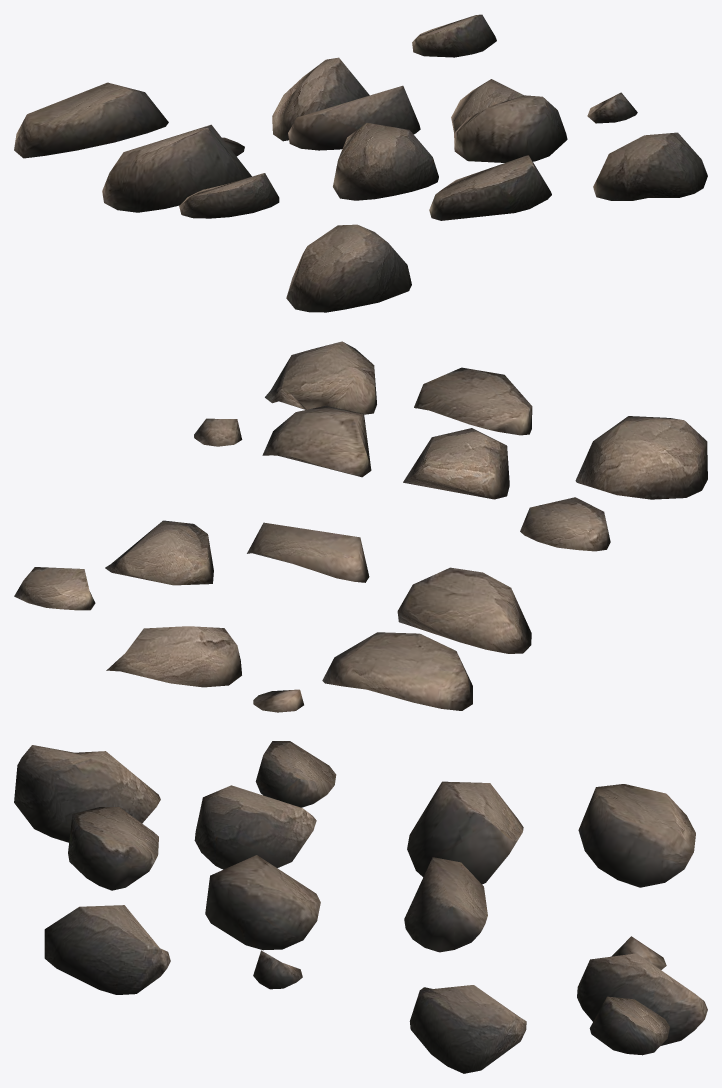
The model's file is Rocks.glb.
3 renders of one model, top to bottom at view 1: azimuth 30°, elevation 25°; view 2: azimuth 150°, elevation 25°; view 3: azimuth 270°, elevation 25°, orthographic. The views are drawn at different scales.
Visible parts, largest first — view 1: Rocks_1, Rocks_4, Rocks_0, Rocks_9, Rocks_6, Rocks_7, Rocks_3, Rocks_2, Rocks_5, Rocks_10, Rocks_11, Rocks_8 (+1 smaller); view 2: Rocks_4, Rocks_0, Rocks_1, Rocks_5, Rocks_6, Rocks_9, Rocks_3, Rocks_7, Rocks_8, Rocks_2, Rocks_10, Rocks_11 (+2 smaller); view 3: Rocks_0, Rocks_4, Rocks_6, Rocks_1, Rocks_7, Rocks_9, Rocks_8, Rocks_5, Rocks_3, Rocks_2, Rocks_10, Rocks_11 (+2 smaller).
Part boxes in pixels (left/top/right/bottom): Rocks_1: left=102, top=124, right=251, bottom=212; Rocks_4: left=286, top=224, right=411, bottom=312; Rocks_0: left=14, top=82, right=168, bottom=158; Rocks_9: left=333, top=123, right=438, bottom=200; Rocks_6: left=593, top=132, right=707, bottom=200; Rocks_7: left=454, top=95, right=567, bottom=162; Rocks_3: left=429, top=155, right=551, bottom=220; Rocks_2: left=288, top=85, right=420, bottom=150; Rocks_5: left=272, top=57, right=369, bottom=141; Rocks_10: left=179, top=173, right=279, bottom=218; Rocks_11: left=412, top=14, right=496, bottom=57; Rocks_8: left=451, top=79, right=524, bottom=132; Rocks_4: left=575, top=416, right=707, bottom=499; Rocks_0: left=322, top=632, right=472, bottom=710; Rocks_1: left=397, top=567, right=531, bottom=653; Rocks_5: left=106, top=626, right=241, bottom=687; Rocks_6: left=265, top=341, right=376, bottom=414; Rocks_9: left=403, top=428, right=509, bottom=499; Rocks_3: left=414, top=367, right=532, bottom=435; Rocks_7: left=262, top=406, right=371, bottom=477; Rocks_8: left=105, top=520, right=213, bottom=585; Rocks_2: left=247, top=522, right=369, bottom=582; Rocks_10: left=520, top=497, right=610, bottom=551; Rocks_11: left=14, top=567, right=95, bottom=610; Rocks_0: left=578, top=784, right=695, bottom=887; Rocks_4: left=14, top=745, right=160, bottom=842; Rocks_6: left=44, top=905, right=170, bottom=994; Rocks_1: left=407, top=781, right=523, bottom=884; Rocks_7: left=205, top=855, right=320, bottom=950; Rocks_9: left=194, top=785, right=316, bottom=869; Rocks_8: left=409, top=985, right=526, bottom=1073; Rocks_5: left=577, top=953, right=707, bottom=1045; Rocks_3: left=68, top=807, right=158, bottom=890; Rocks_2: left=404, top=857, right=487, bottom=952; Rocks_10: left=255, top=741, right=336, bottom=807; Rocks_11: left=589, top=996, right=669, bottom=1055.
Size of the model in its own units: 1 by 0.3063 by 1.17.
Materials: 1 (1 with a texture image).
